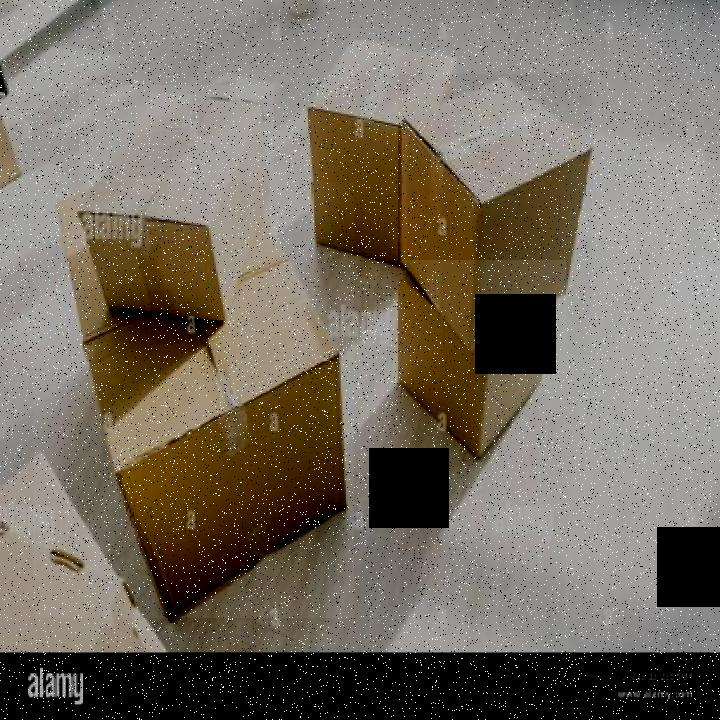box: (33, 183, 356, 618), (398, 74, 592, 354), (79, 85, 274, 329), (301, 28, 457, 286), (391, 260, 566, 472)
